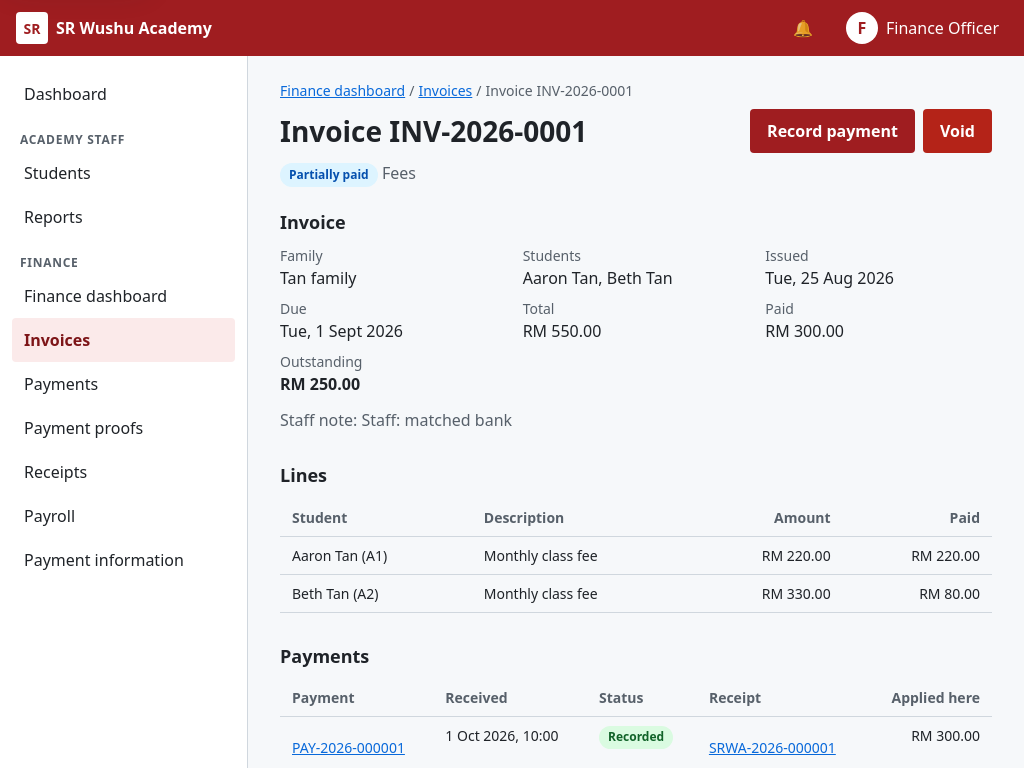
invoices › voiding needs a reason and shows the backend's refusal
This screenshot has width=1024, height=768.
Click the button "Void": (958, 131) [923,109,992,153]
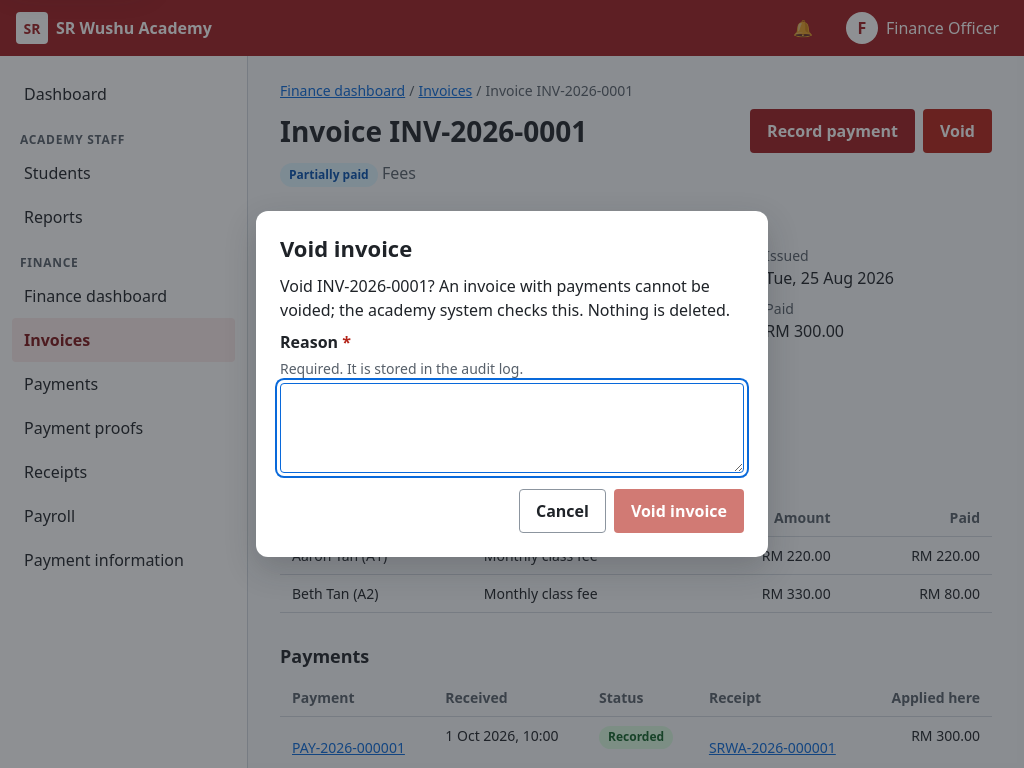
Expected: the button "Void invoice" is disabled, [614,489,744,533]
In the text box labelled "Reason *": (512, 428) [280,383,744,473], type "Duplicate"
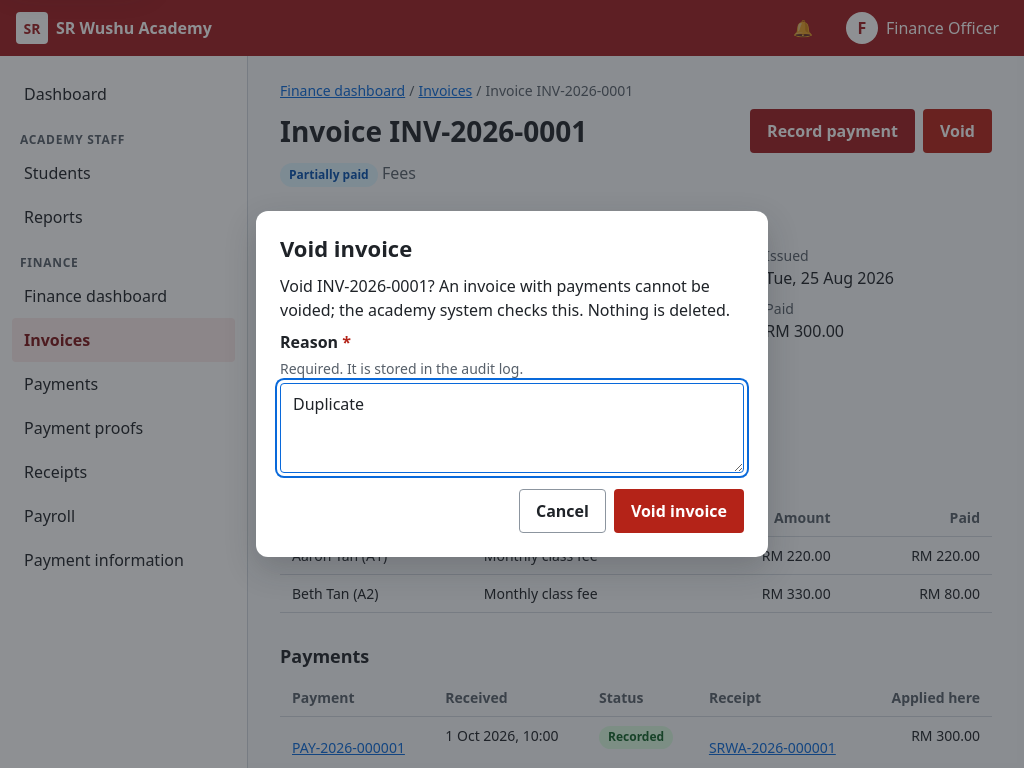
Click the button "Void invoice": (679, 511) [614,489,744,533]
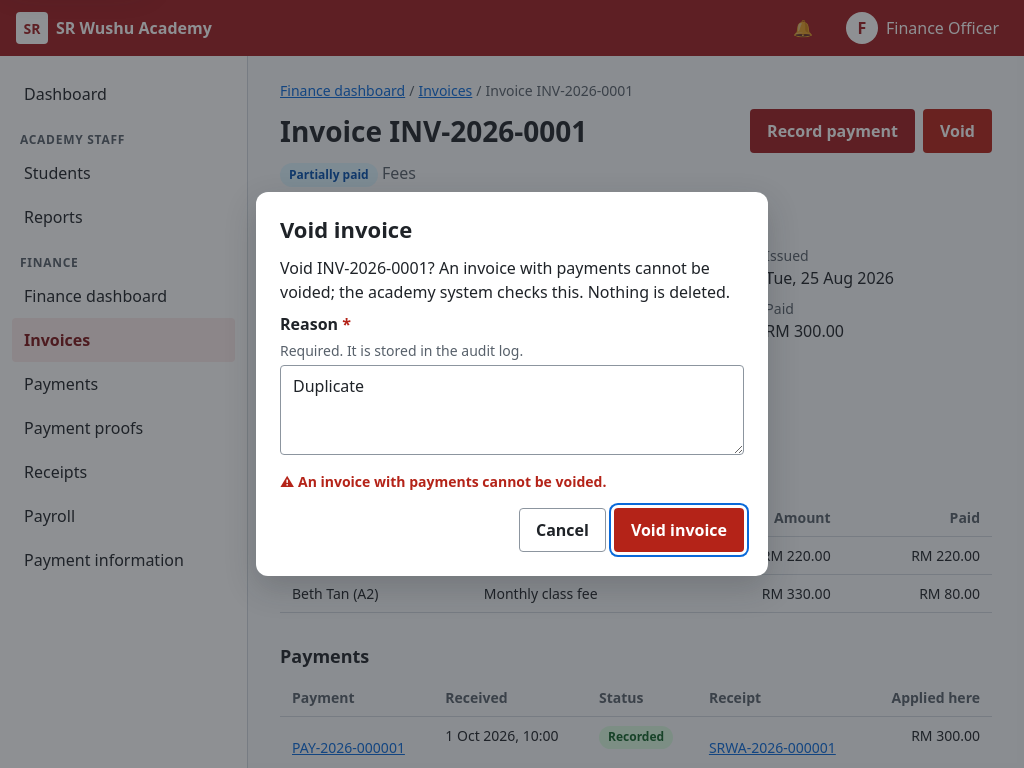
Expected: the text "An invoice with payments cannot be voided." is shown, [298,472,606,491]
